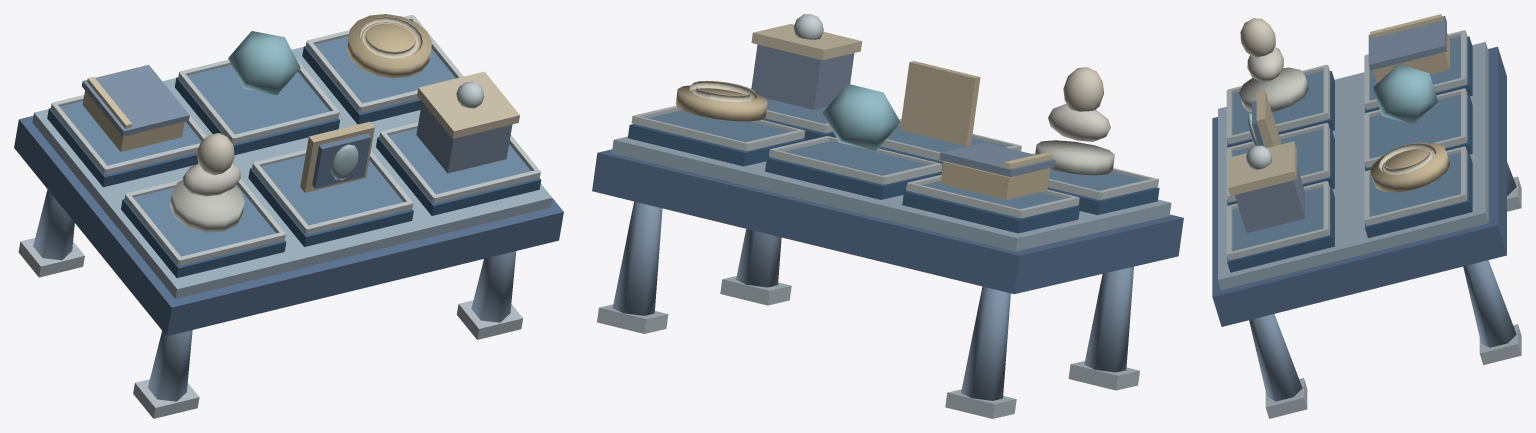
Rendered from ART-29.glb.
3 views of the same model, side by side, from view 1: azimuth 30°, elevation 25°; view 2: azimuth 150°, elevation 25°; view 3: azimuth 270°, elevation 25° (orthographic). The views are drawn at different scales.
Visible parts, largest first — view 1: world; view 2: world; view 3: world.
Part boxes in pixels (box(x1,y1,x2,y2)): world: box(14, 14, 563, 418); world: box(592, 14, 1183, 418); world: box(1212, 14, 1521, 418).
Size of the model in its own units: 2 by 1.37 by 1.46.
